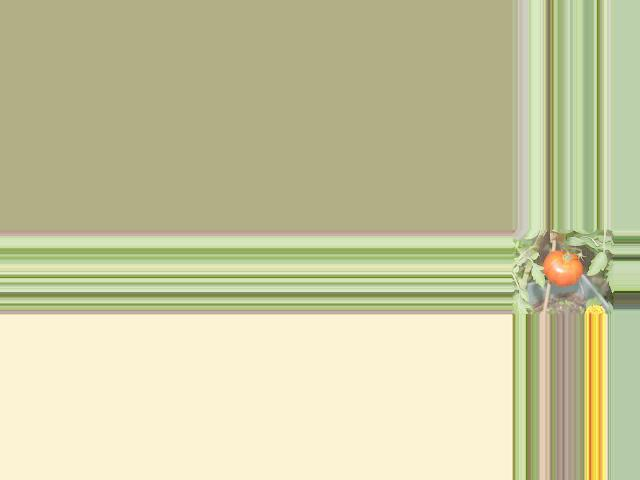tomato: (541, 250, 582, 286)
